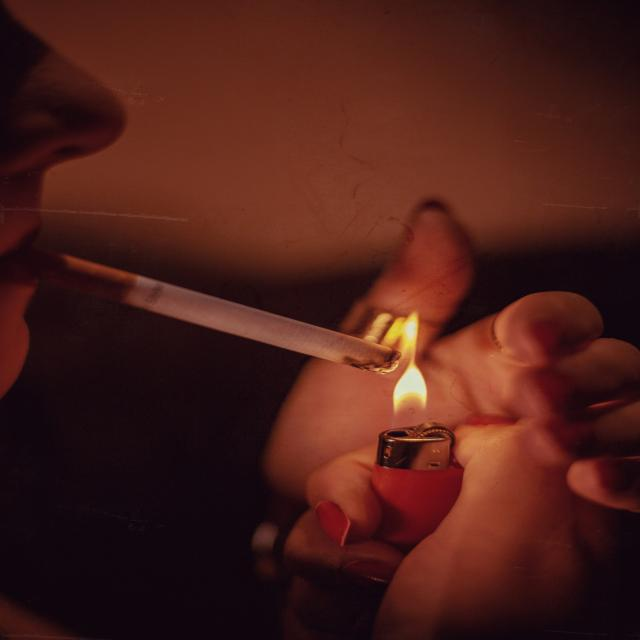fire: (393, 363, 427, 421)
